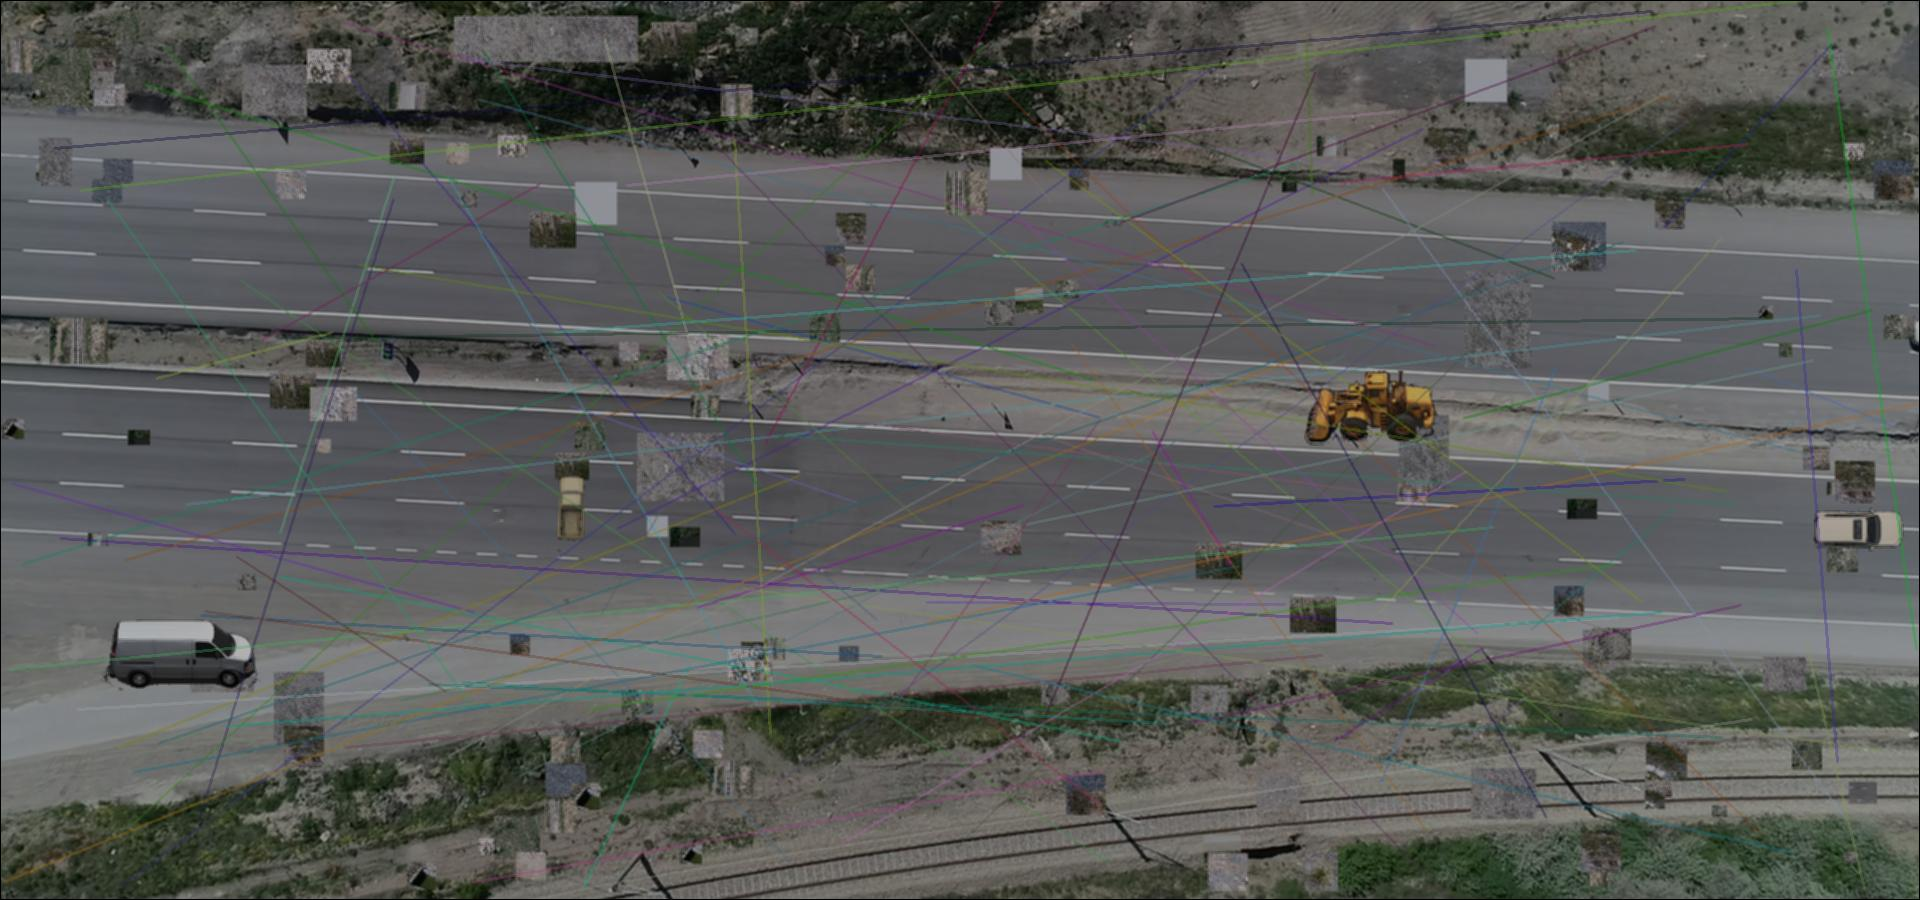arac: (100, 620, 261, 691), (1300, 369, 1441, 444), (1811, 507, 1907, 553), (555, 474, 587, 542)
